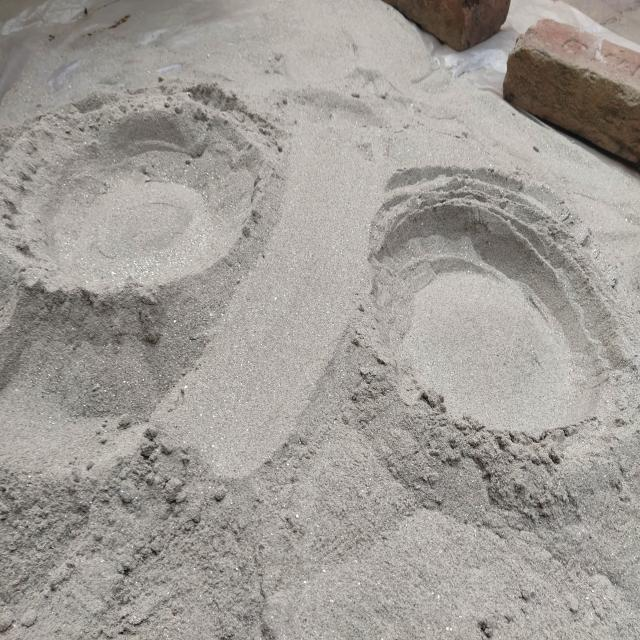C20: (365, 198, 637, 435), (4, 107, 263, 291)
